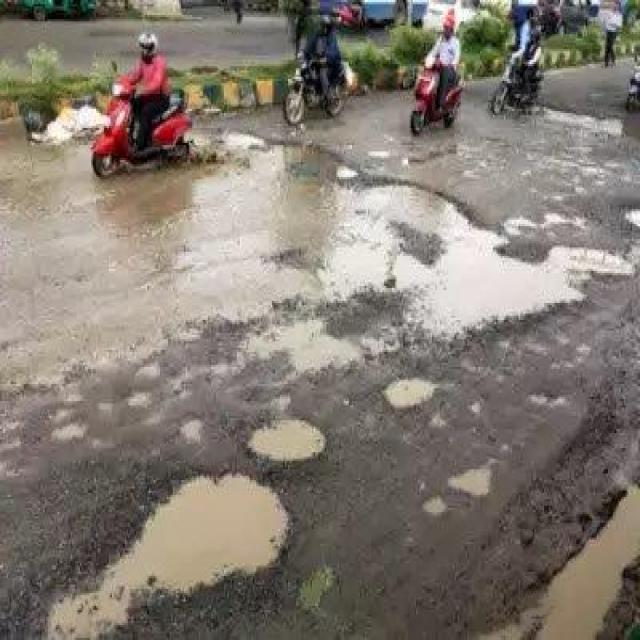lubang: (1, 164, 502, 390), (37, 463, 291, 638), (516, 469, 640, 640), (500, 224, 639, 324), (229, 304, 371, 391), (511, 140, 639, 193), (538, 227, 640, 292), (210, 121, 339, 164), (540, 92, 622, 140), (243, 414, 330, 456), (291, 559, 347, 618), (401, 141, 505, 171), (534, 190, 593, 238), (47, 402, 92, 446), (1, 410, 28, 479), (171, 406, 213, 448), (520, 381, 578, 411), (381, 380, 445, 407), (448, 463, 493, 495), (501, 205, 533, 243), (266, 380, 296, 420), (425, 399, 455, 438), (337, 145, 359, 193), (124, 380, 151, 412), (359, 141, 396, 163), (618, 201, 640, 231), (572, 334, 592, 362), (422, 491, 443, 516), (469, 397, 486, 416), (339, 141, 359, 154)
